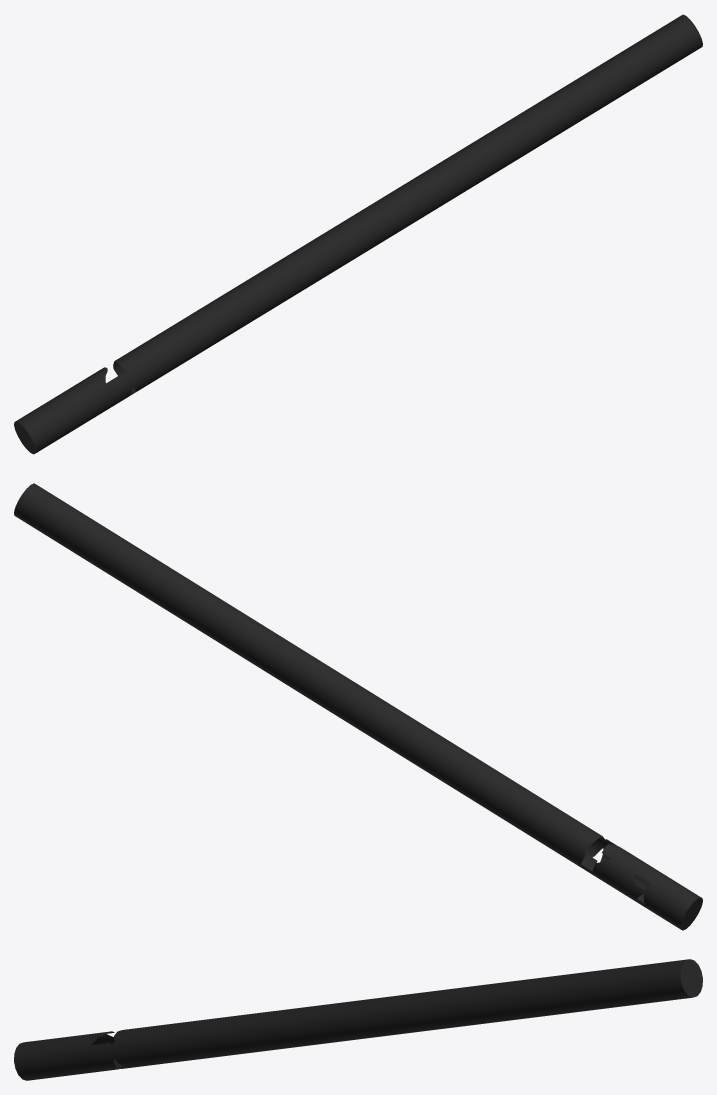
File: zx200-arm-cyl2.dae
3 renders of one model, top to bottom at view 1: azimuth 30°, elevation 25°; view 2: azimuth 150°, elevation 25°; view 3: azimuth 330°, elevation 25°, orthographic.
Visible parts, largest first — view 1: boom-arm-cyl2.002; view 2: boom-arm-cyl2.002; view 3: boom-arm-cyl2.002.
Boxes of the visible parts, x1,y1,x2,y2 form: boom-arm-cyl2.002: [14, 14, 702, 454]; boom-arm-cyl2.002: [14, 483, 702, 930]; boom-arm-cyl2.002: [14, 959, 702, 1080].
Size of the model in its own units: 1.62 by 0.0916 by 0.6422.
1 material, 1 textured.
